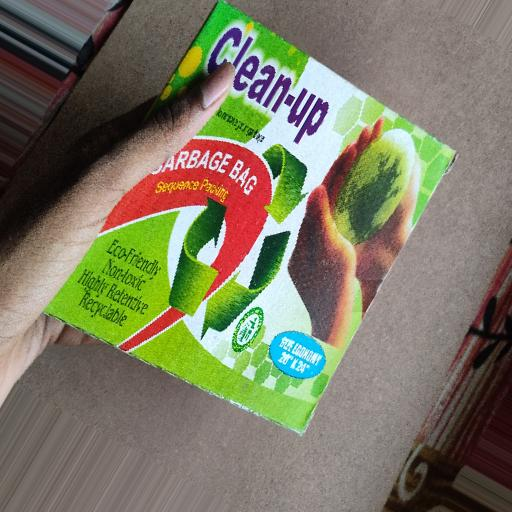CleanUp Garbage bag: (22, 6, 479, 435)
